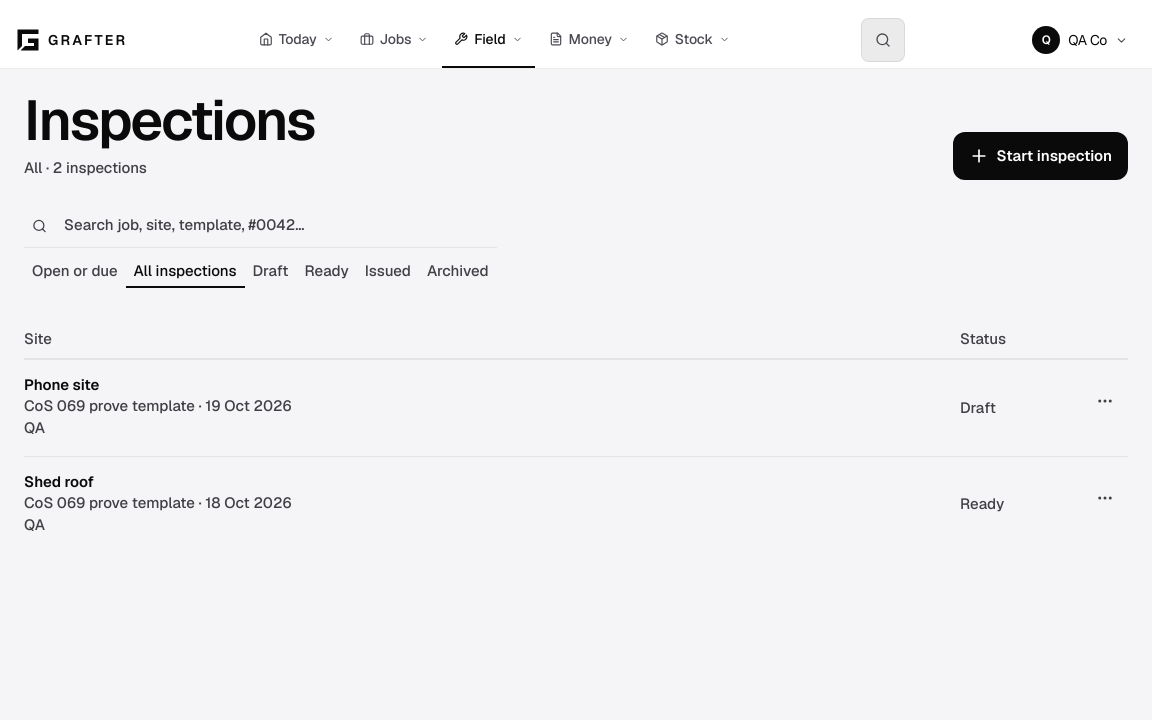
inspections list delete, archive, filter, and date › A1/A2: Archived shows archived rows, Restore writes archived false and returns the row to the active list
Earlier steps of the test are not shown.
Click the button "Archived".
click(458, 272)  # box [419,256,497,288]
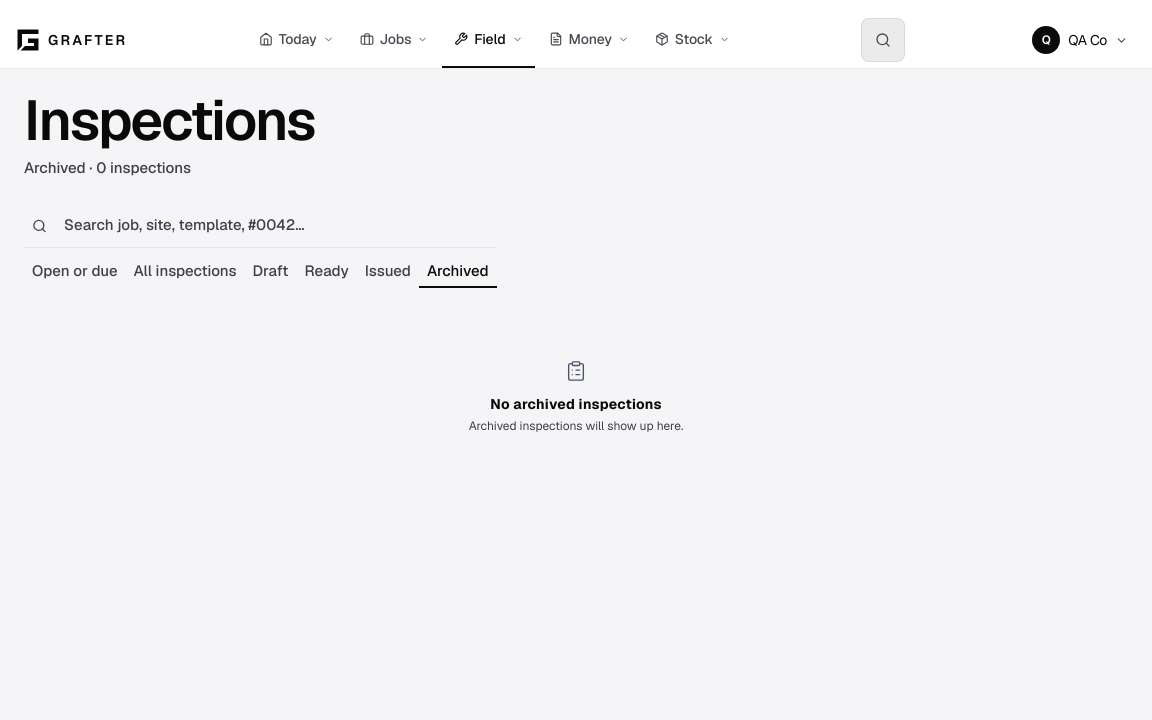
Check: the text "Shed roof" is gone
